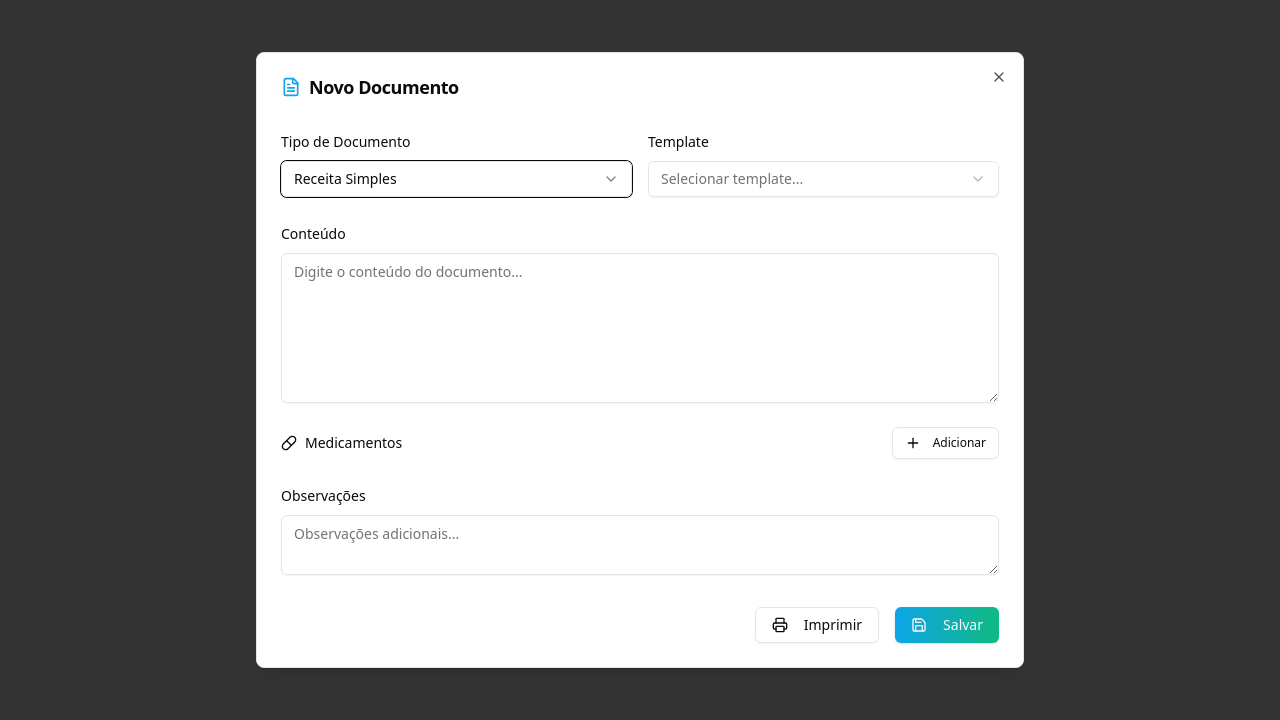
Scenario: PrescriptionEditor — seção de medicamentos › a seção de medicamentos oferece os cinco campos do cenário
Expected: the number of dropdowns is 2, [281, 161, 632, 197]; [648, 161, 999, 197]
Step 1. Click the button "Adicionar" → (945, 443), box [892, 427, 999, 459]
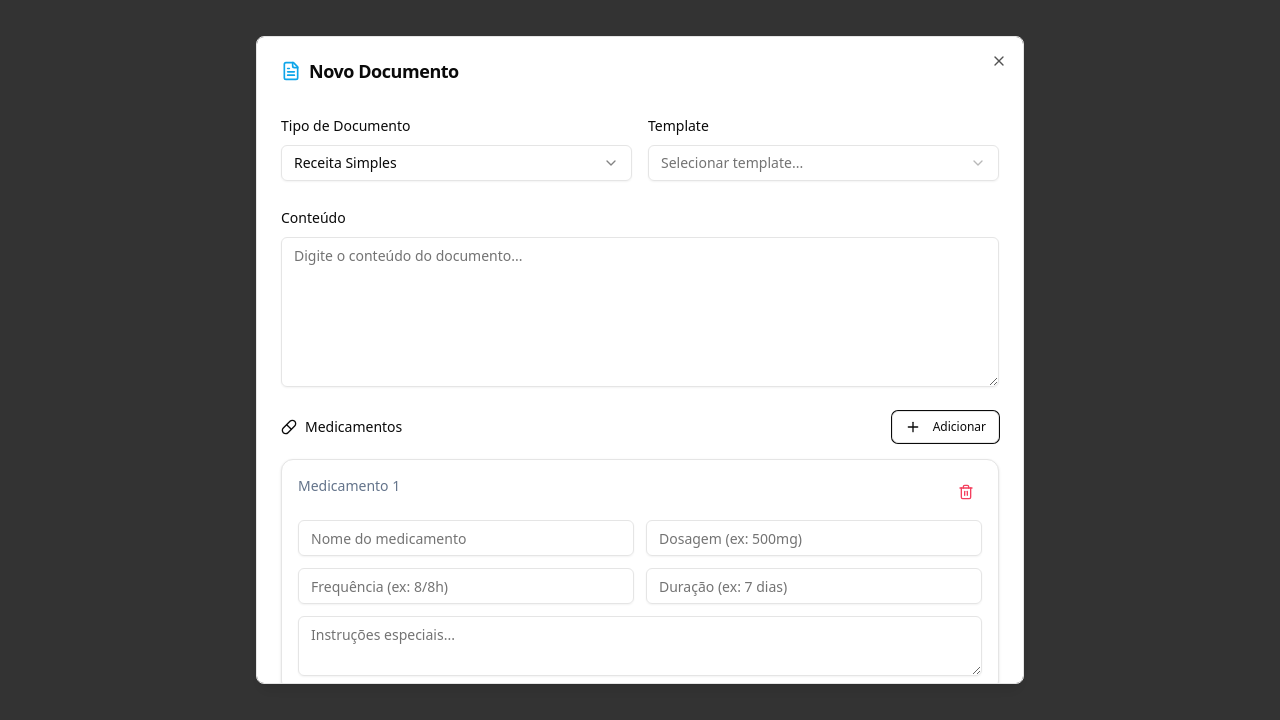
Result: the field with placeholder "Nome do medicamento" is shown at [298, 520, 634, 556]
Result: the field with placeholder "Dosagem (ex: 500mg)" is shown at [646, 520, 982, 556]
Result: the field with placeholder "Frequência (ex: 8/8h)" is shown at [298, 568, 634, 604]
